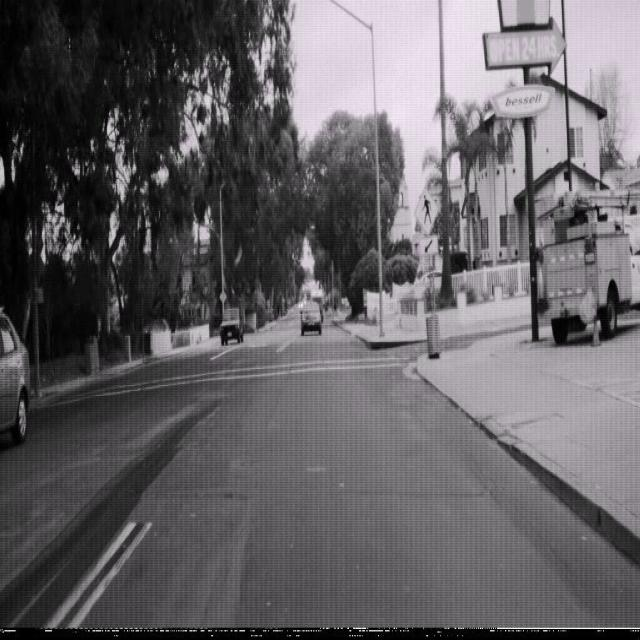pedestrianCrossing: (413, 185, 439, 237)
